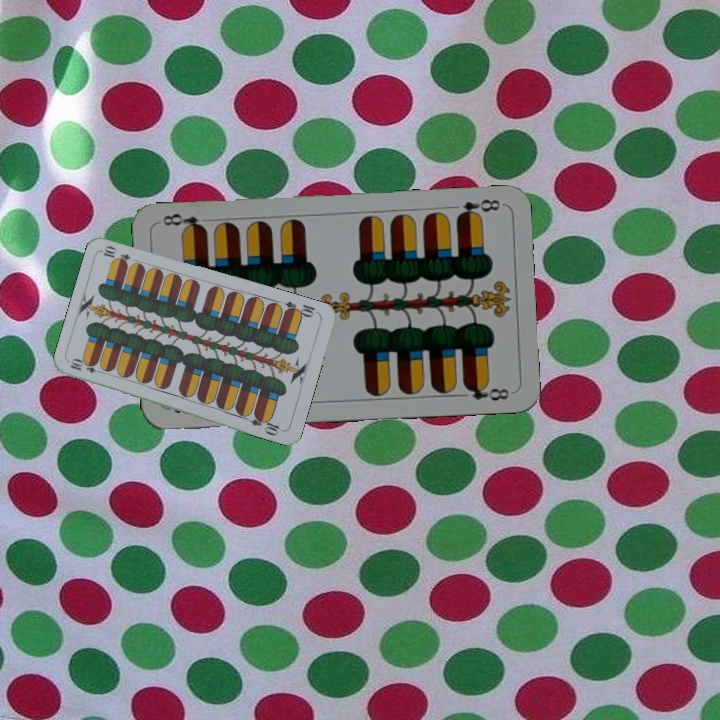E10: (280, 297, 321, 320), (66, 357, 107, 376)
E8: (452, 195, 503, 221)
